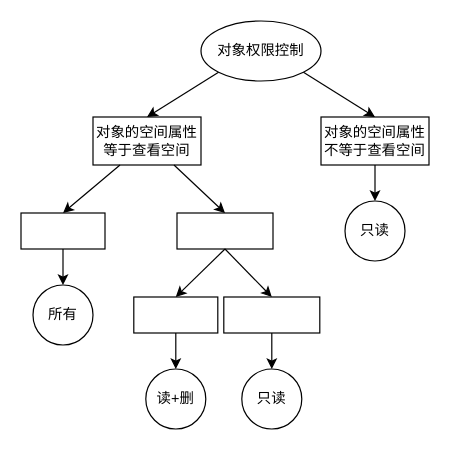
Some shapes in this 450 by 450 pixel diagram are drawn without their labels. The shapes that lost their labels are listed below. From the top down, each one's centre as x and y in pixels, then its label:
point 62,230: 对象创建者
point 224,230: 非对象创建者
point 175,314: 空间拥有者
point 271,314: 非空间拥有者
